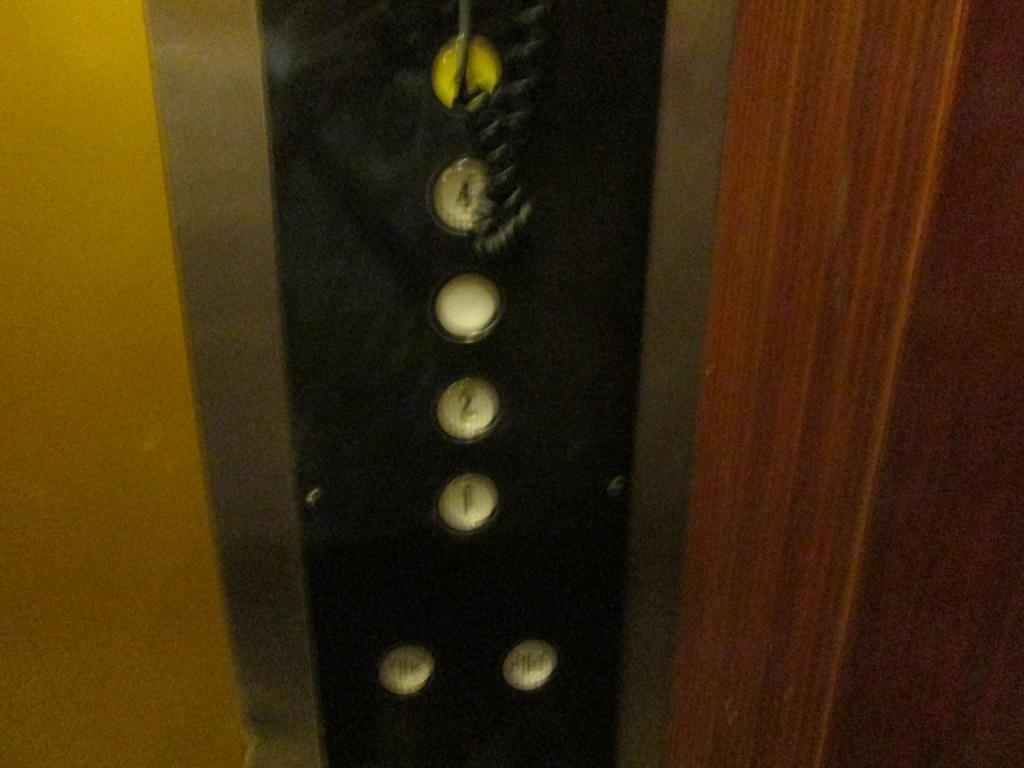1: (430, 468, 503, 537)
2: (430, 373, 503, 446)
blur: (425, 155, 515, 238), (429, 33, 509, 115), (499, 634, 561, 693), (375, 641, 438, 697)
empty: (428, 267, 508, 345)
